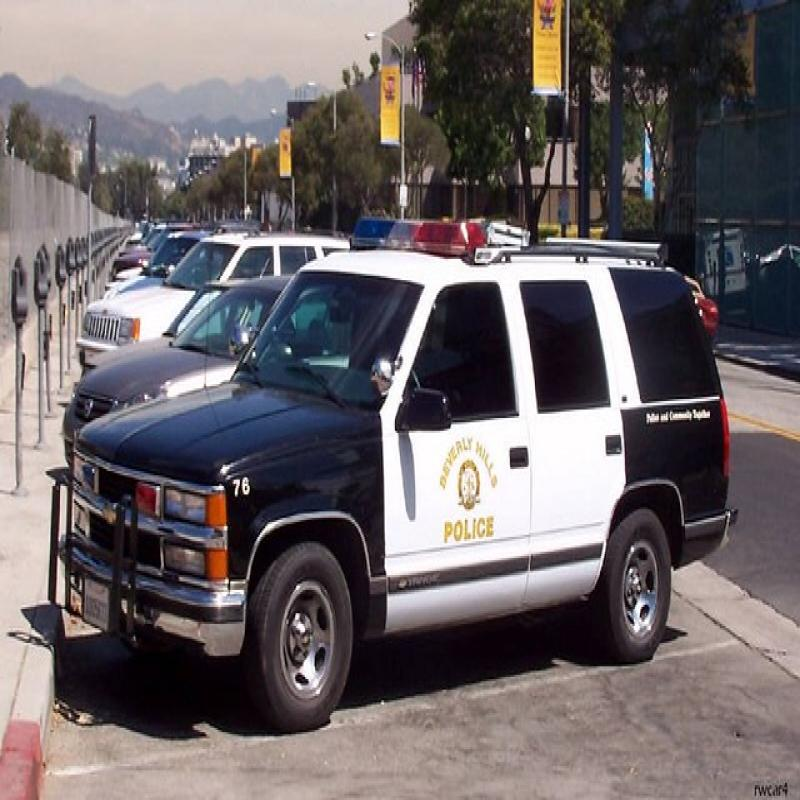AmbulanceSiren: (333, 195, 503, 284)
